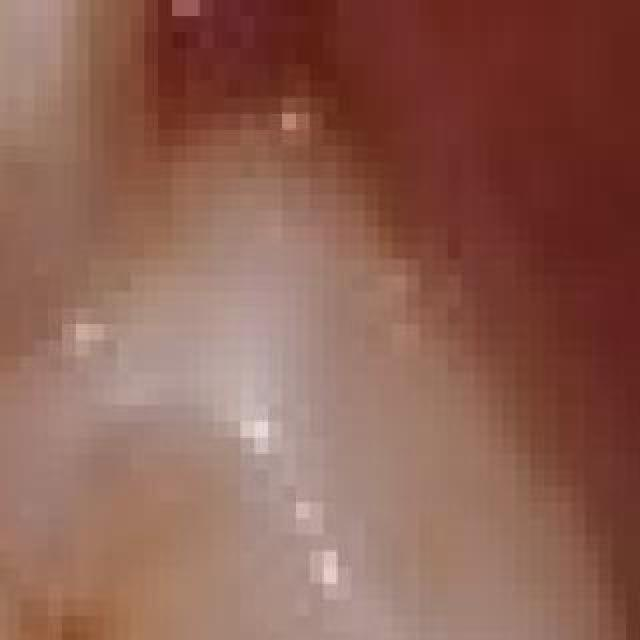plaque: (166, 63, 584, 557)
